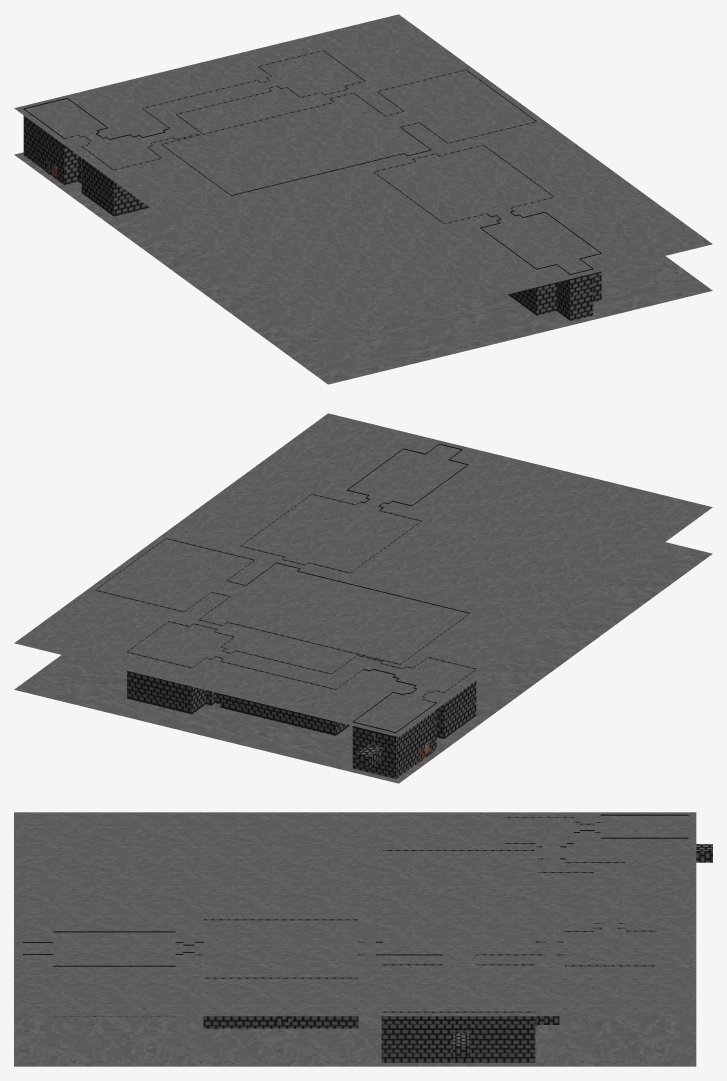
The model's file is level2_v3.fbx.
The picture shows the model from 3 angles, top to bottom: view 1: azimuth 30°, elevation 25°; view 2: azimuth 150°, elevation 25°; view 3: azimuth 270°, elevation 25°; orthographic projection. The views are drawn at different scales.
Visible parts, largest first — view 1: polySurface1, polySurface2, pCube14; view 2: polySurface1, polySurface2, pCube14; view 3: polySurface1, polySurface2, pCube14.
Part boxes in pixels (x1,y1,x2,y2): polySurface1: [14, 14, 712, 337]; polySurface2: [14, 152, 712, 384]; pCube14: [23, 50, 601, 320]; polySurface1: [14, 413, 712, 736]; polySurface2: [14, 542, 712, 783]; pCube14: [95, 443, 476, 778]; polySurface1: [14, 812, 696, 1016]; polySurface2: [14, 1016, 696, 1066]; pCube14: [23, 814, 712, 1062].
Bounding box in the file's own units: 3365 × 748 × 4676.
